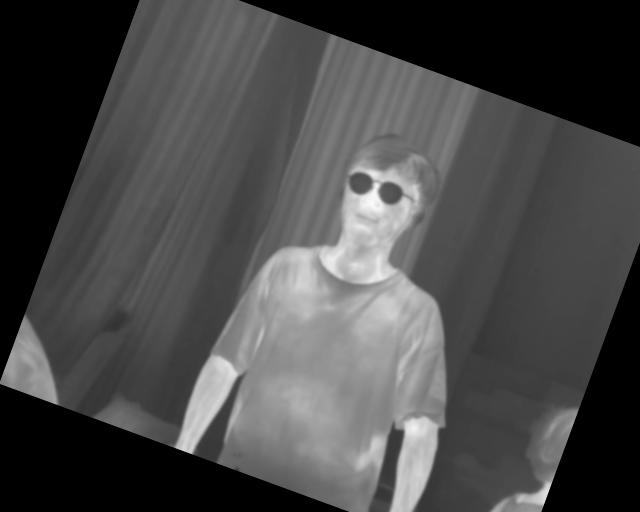face: (324, 122, 450, 264)
